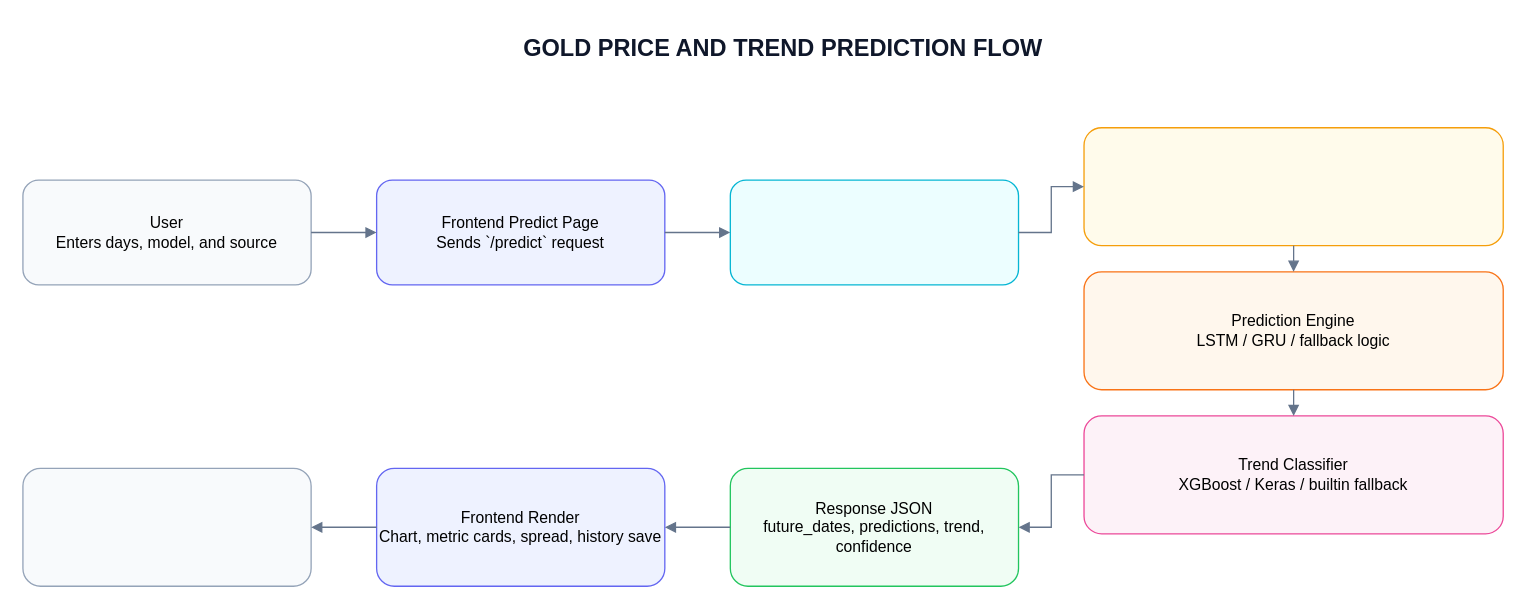
Some shapes in this 1539 by 609 pixel diagram are drawn without their labels. The centre of each missing label's shape, as x and y in pixels:
"Dataset / Feature Frame final_dataset.csv + feature engineering" belongs at (x=1293, y=186).
"FastAPI Backend Validates request and routes service" belongs at (x=874, y=232).
"User reviews result Adjusts parameters if needed" belongs at (x=166, y=526).
